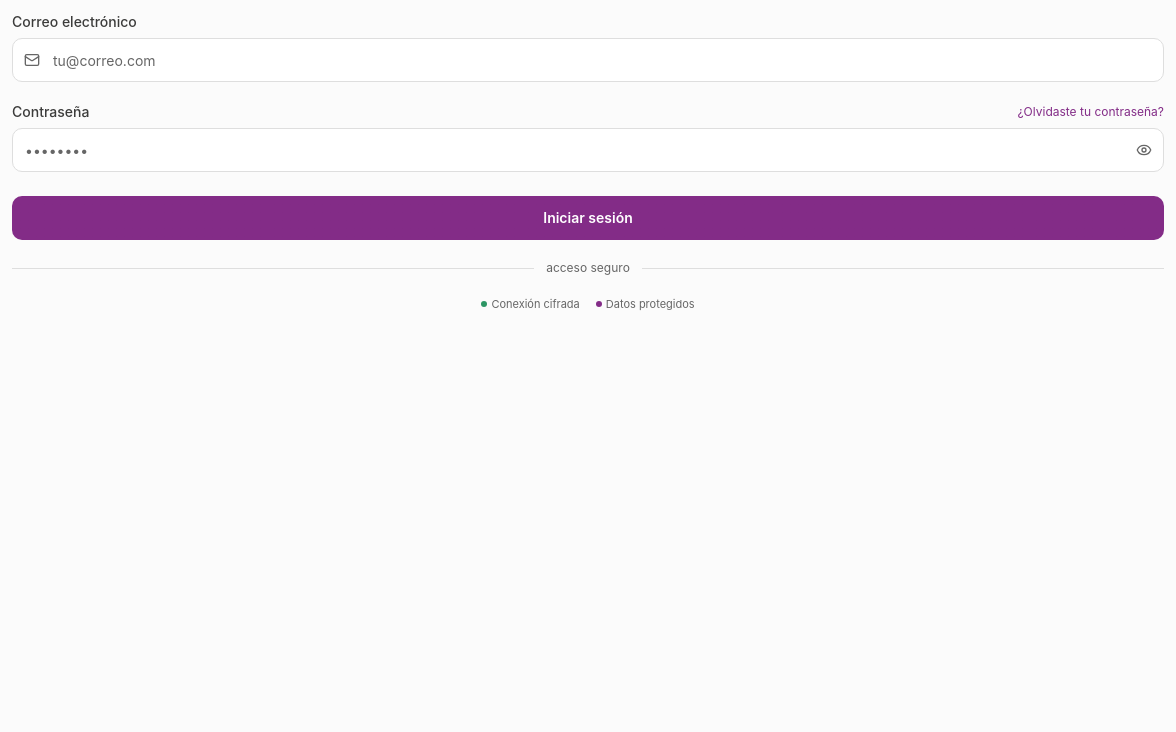
LoginForm › con credenciales inválidas muestra el mensaje genérico y no inicia sesión
Type "ana@clinica.test" into the field labelled "Correo electrónico" at (588, 60), box 12,38 -> 1164,82
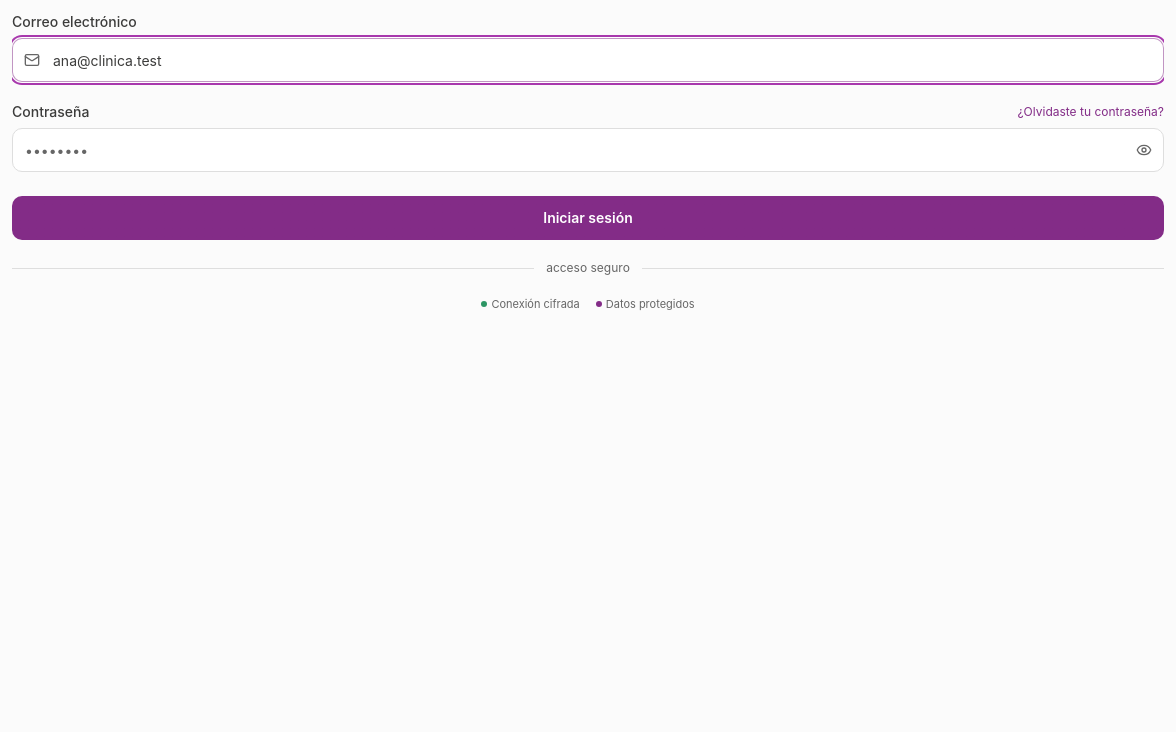
Type "malaclave" into the password field labelled "Contraseña" at (588, 150), box 12,128 -> 1164,172
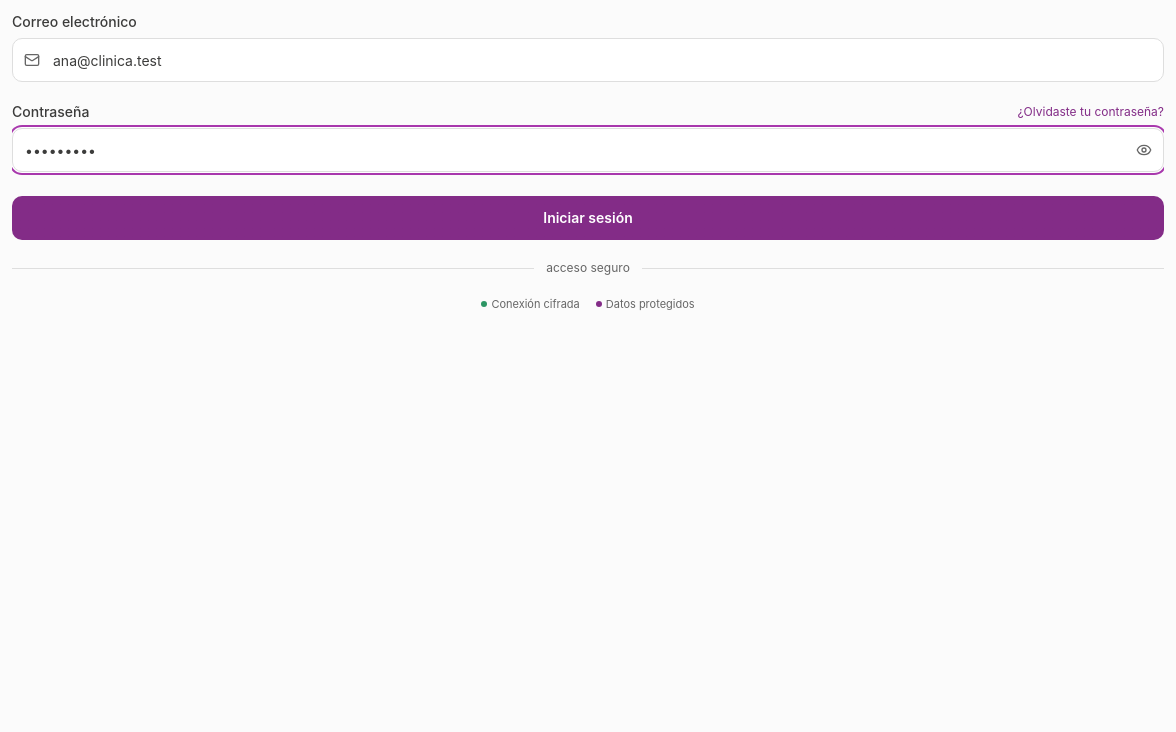
Click the button "Iniciar sesión" at (588, 218), box 12,196 -> 1164,240
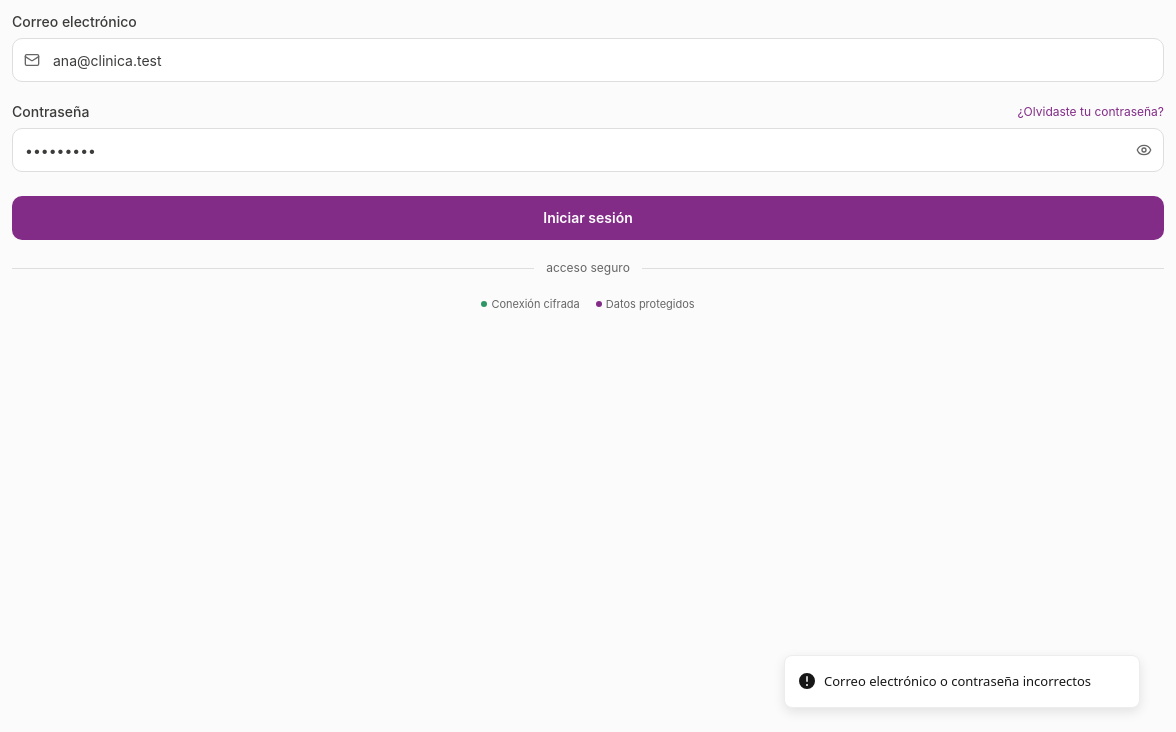
Expected: the text "Correo electrónico o contraseña incorrectos" is shown, 824,672 -> 1091,691
